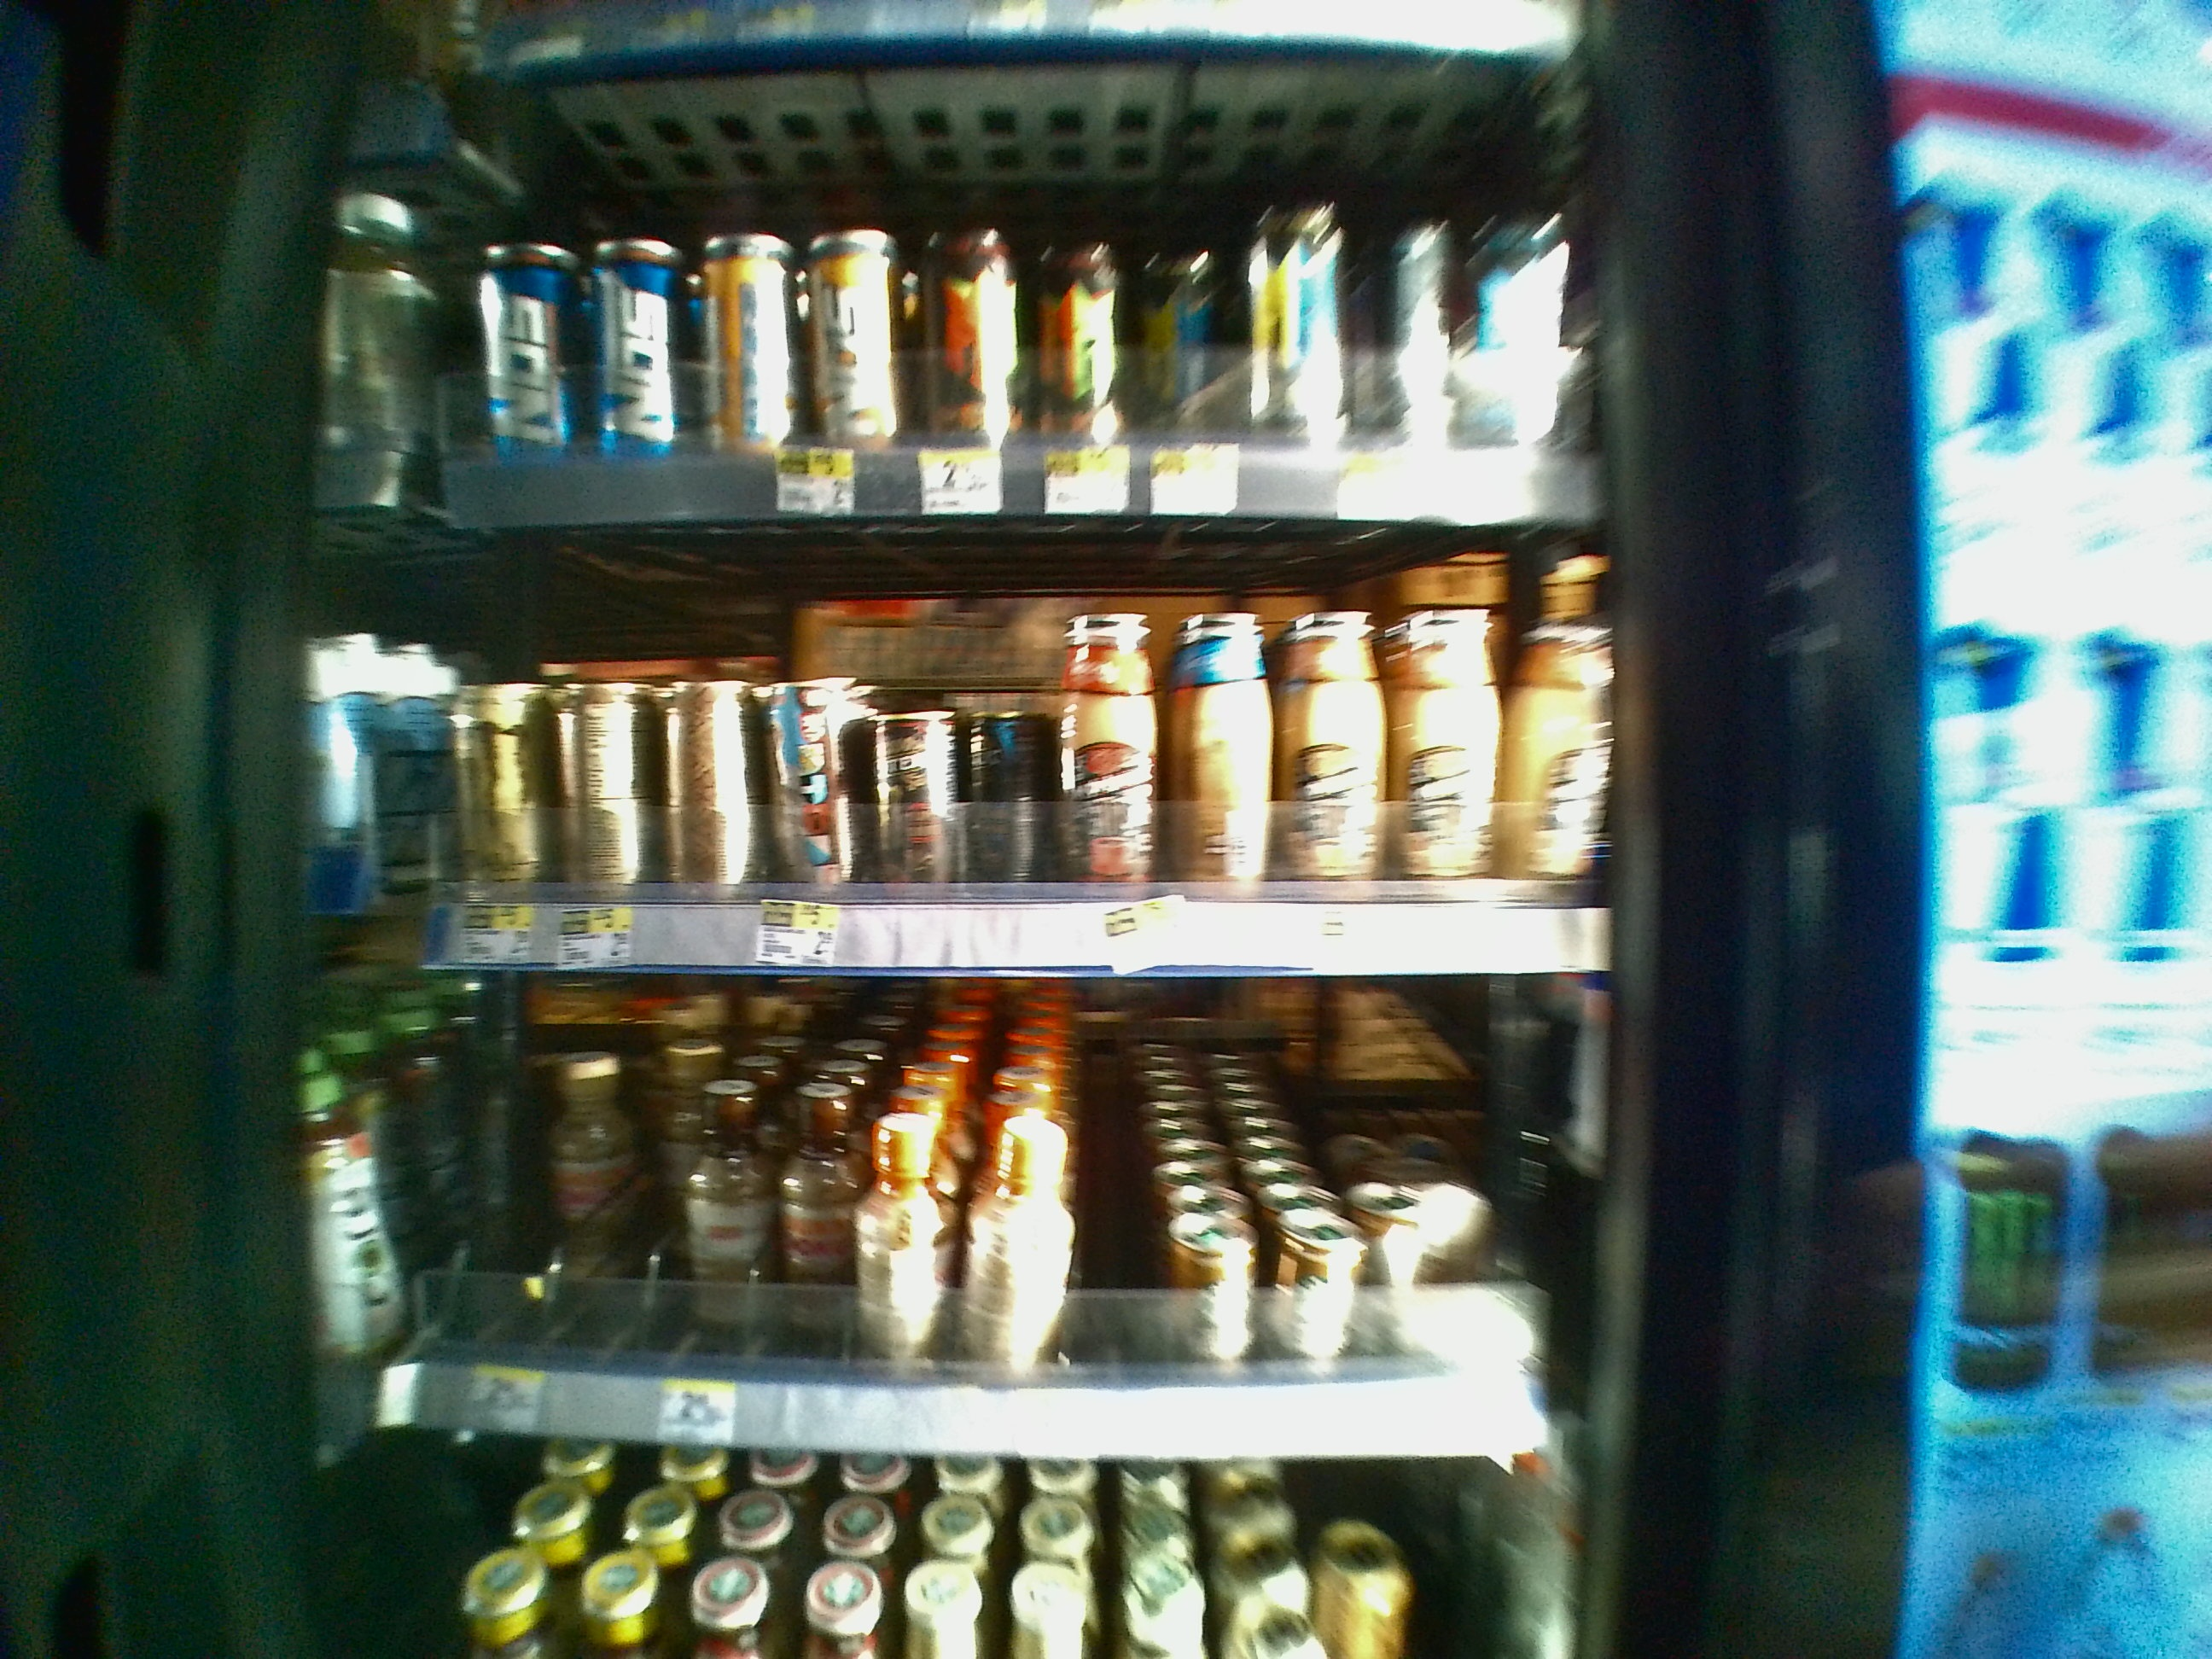shelf: (270, 981, 1660, 1452), (280, 533, 1662, 979)
